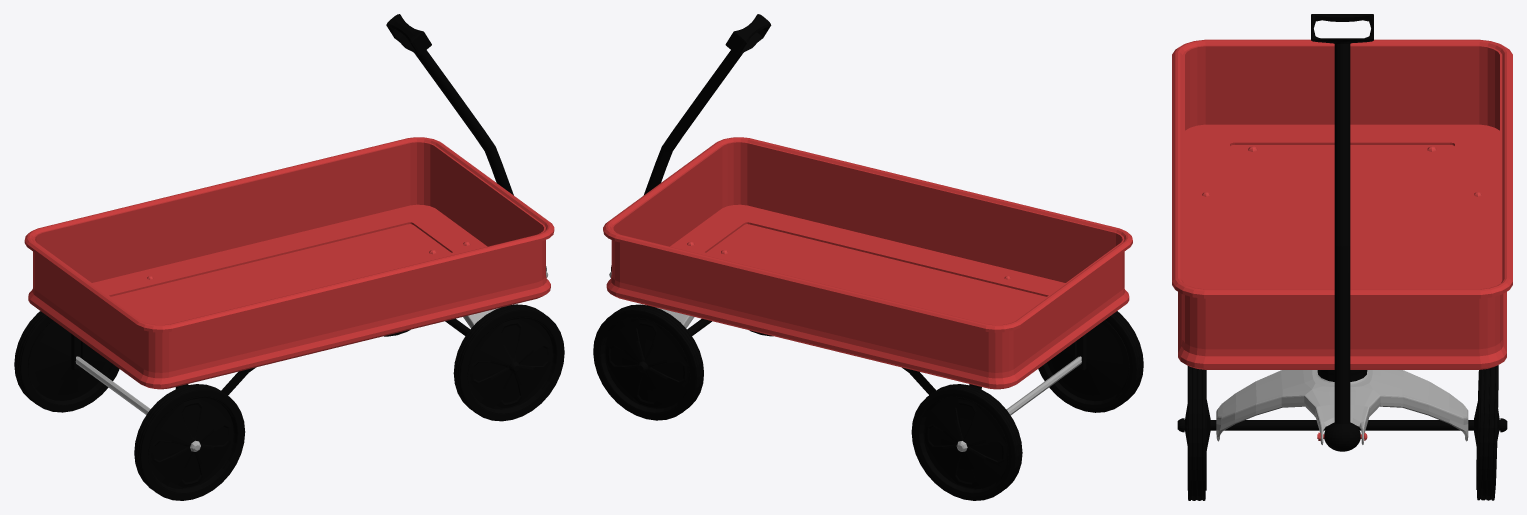
The model's file is toycar.fbx.
3 views of the same model, side by side, from view 1: azimuth 30°, elevation 25°; view 2: azimuth 150°, elevation 25°; view 3: azimuth 270°, elevation 25° (orthographic). The views are drawn at different scales.
Parts seen in each view (by area): view 1: polySurface44, polySurface56, polySurface55, polySurface50, polySurface51, polySurface54, polySurface60, polySurface57, polySurface45; view 2: polySurface44, polySurface50, polySurface59, polySurface56, polySurface57, polySurface58, polySurface60, polySurface54, polySurface45; view 3: polySurface44, polySurface53, polySurface60, polySurface58, polySurface51, polySurface52, polySurface59, polySurface55.
Boxes of the visible parts, x1=… form: polySurface44: x1=24, y1=137, x2=554, y2=389; polySurface56: x1=148, y1=396, x2=238, y2=493; polySurface55: x1=467, y1=317, x2=557, y2=413; polySurface50: x1=27, y1=320, x2=114, y2=405; polySurface51: x1=453, y1=304, x2=564, y2=421; polySurface54: x1=134, y1=384, x2=245, y2=500; polySurface60: x1=386, y1=14, x2=546, y2=271; polySurface57: x1=14, y1=311, x2=119, y2=412; polySurface45: x1=75, y1=356, x2=200, y2=451; polySurface44: x1=603, y1=137, x2=1132, y2=389; polySurface50: x1=918, y1=396, x2=1008, y2=493; polySurface59: x1=599, y1=317, x2=690, y2=413; polySurface56: x1=1042, y1=320, x2=1129, y2=405; polySurface57: x1=911, y1=384, x2=1022, y2=500; polySurface58: x1=593, y1=304, x2=703, y2=420; polySurface60: x1=611, y1=14, x2=771, y2=271; polySurface54: x1=1038, y1=311, x2=1143, y2=412; polySurface45: x1=956, y1=356, x2=1081, y2=451; polySurface44: x1=1172, y1=39, x2=1512, y2=369; polySurface53: x1=1216, y1=370, x2=1468, y2=444; polySurface60: x1=1311, y1=14, x2=1373, y2=451; polySurface58: x1=1477, y1=365, x2=1498, y2=500; polySurface51: x1=1188, y1=366, x2=1205, y2=500; polySurface52: x1=1177, y1=418, x2=1507, y2=432; polySurface59: x1=1473, y1=370, x2=1499, y2=489; polySurface55: x1=1185, y1=366, x2=1210, y2=490.
Bounding box in the file's own units: 38.8 × 28.72 × 19.51.
